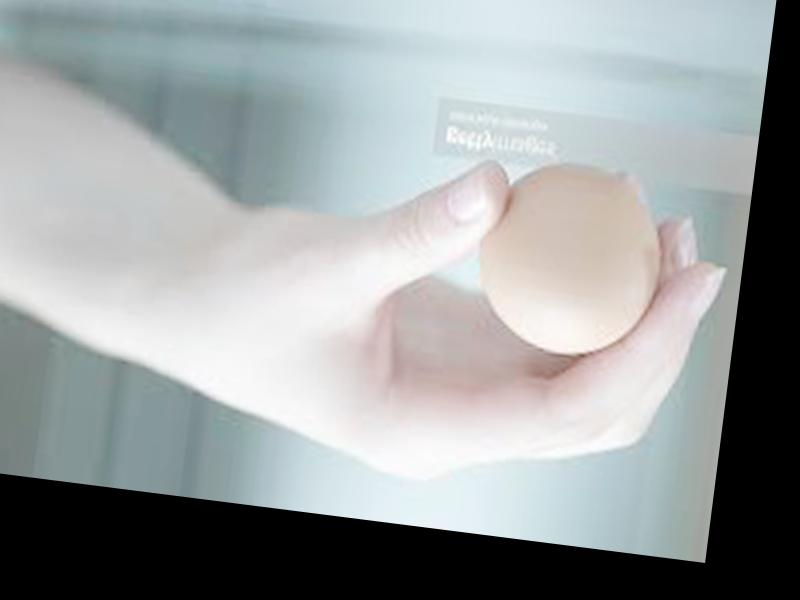Eggs: (464, 149, 671, 367)
